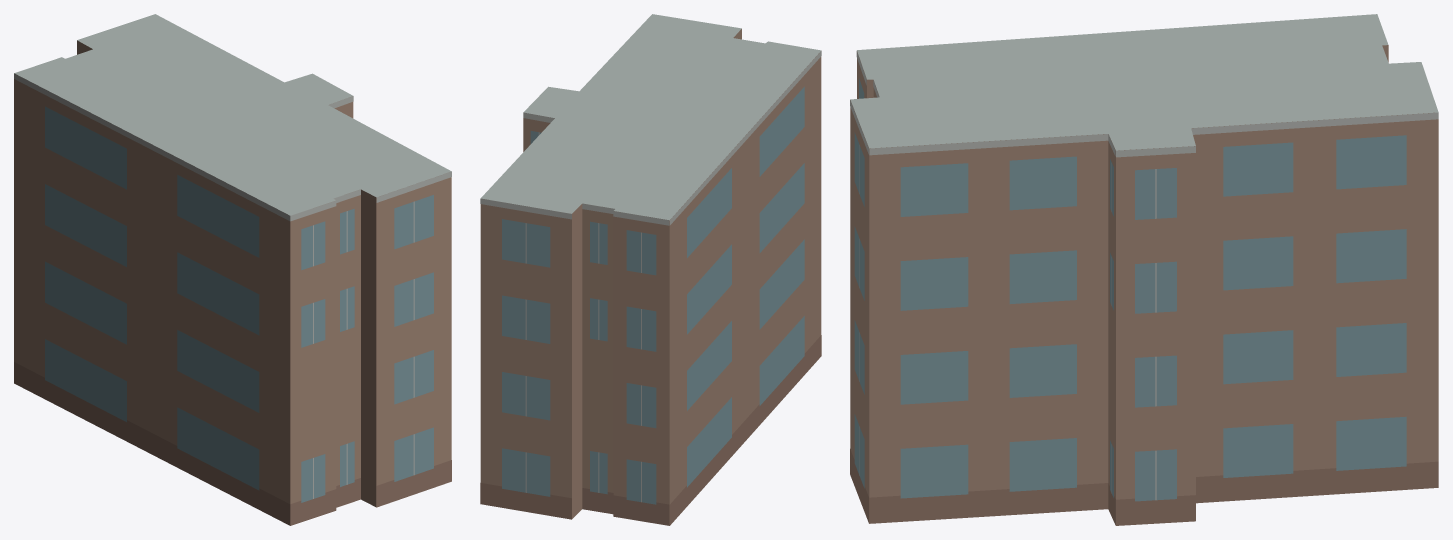
Rendered from survey-upis-32965796.glb.
3 renders of one model, left to right at view 1: azimuth 30°, elevation 25°; view 2: azimuth 150°, elevation 25°; view 3: azimuth 270°, elevation 25°, orthographic. The views are drawn at different scales.
Visible parts, largest first — view 1: survey-upis-32965796.tmp; view 2: survey-upis-32965796.tmp; view 3: survey-upis-32965796.tmp.
Part boxes in pixels (<box>): survey-upis-32965796.tmp: <box>14,14,451,525</box>; survey-upis-32965796.tmp: <box>480,14,821,525</box>; survey-upis-32965796.tmp: <box>850,14,1438,525</box>.
Size of the model in its own units: 10.43 by 13.35 by 18.98.
